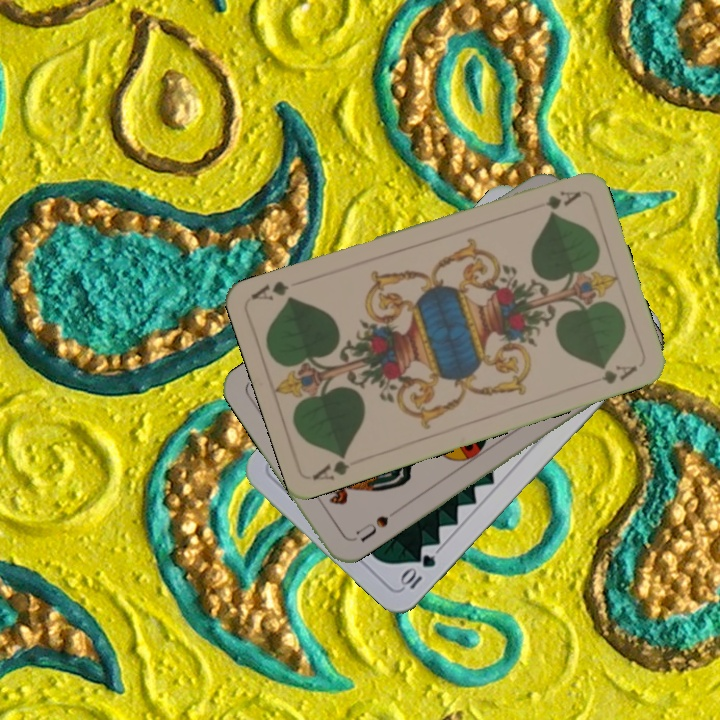G10: (396, 550, 439, 592)
GA: (309, 449, 352, 483), (541, 186, 583, 212)
SU: (347, 505, 399, 545)
